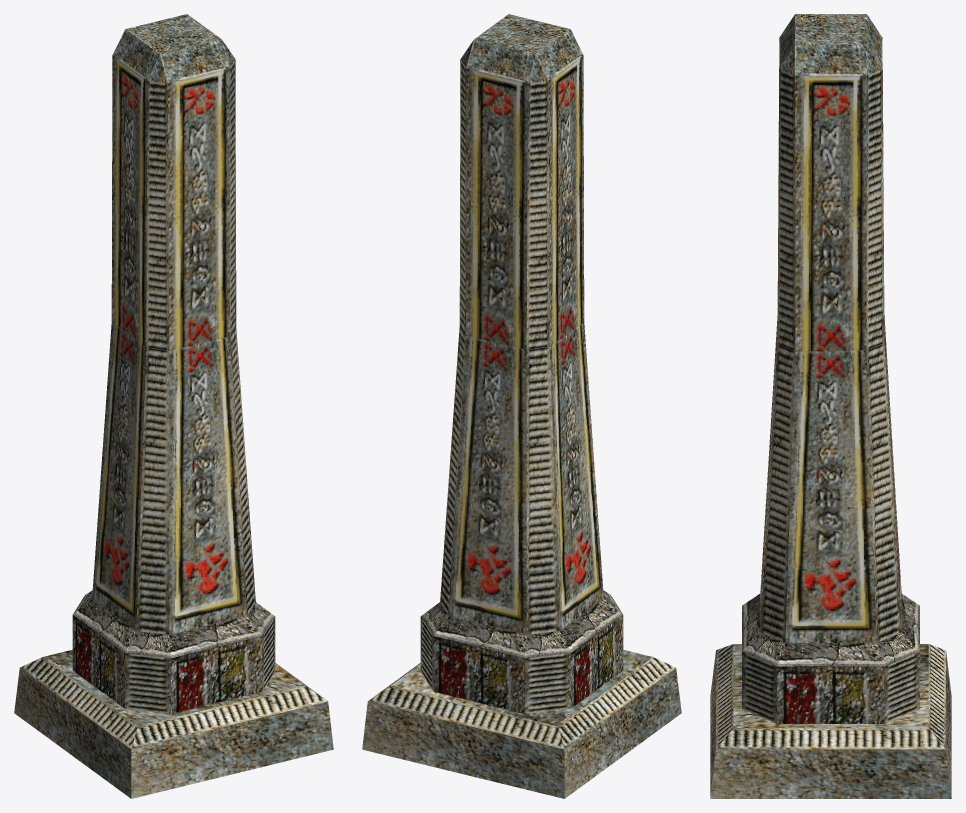
Rendered from Totem_Small_Broken.fbx.
3 renders of one model, left to right at view 1: azimuth 30°, elevation 25°; view 2: azimuth 150°, elevation 25°; view 3: azimuth 270°, elevation 25°, orthographic. The views are drawn at different scales.
Parts seen in each view (by area): view 1: object_2_cell.014, object_2_cell.007, object_2_cell.009, object_2_cell.013, object_2_cell.003, object_2_cell.010, object_2_cell.004, object_2_cell.018, object_2_cell, object_2_cell.006, object_2_cell.016; view 2: object_2_cell.014, object_2_cell.007, object_2_cell.009, object_2_cell.013, object_2_cell.011, object_2_cell.018, object_2_cell.004, object_2_cell.003, object_2_cell.019, object_2_cell, object_2_cell.006; view 3: object_2_cell.014, object_2_cell.007, object_2_cell.013, object_2_cell.009, object_2_cell.010, object_2_cell.006, object_2_cell.019, object_2_cell.011, object_2_cell.003.
Part boxes in pixels (left/top/right/bottom): object_2_cell.014: left=72, top=467, right=275, bottom=713; object_2_cell.007: left=98, top=304, right=246, bottom=565; object_2_cell.009: left=111, top=149, right=237, bottom=355; object_2_cell.013: left=112, top=14, right=235, bottom=183; object_2_cell.003: left=93, top=697, right=244, bottom=798; object_2_cell.010: left=240, top=663, right=333, bottom=760; object_2_cell.004: left=58, top=666, right=114, bottom=770; object_2_cell.018: left=14, top=659, right=69, bottom=753; object_2_cell: left=128, top=34, right=180, bottom=96; object_2_cell.006: left=187, top=159, right=235, bottom=240; object_2_cell.016: left=214, top=725, right=288, bottom=778; object_2_cell.014: left=420, top=486, right=623, bottom=713; object_2_cell.007: left=447, top=317, right=599, bottom=558; object_2_cell.009: left=459, top=151, right=584, bottom=333; object_2_cell.013: left=460, top=14, right=583, bottom=180; object_2_cell.011: left=377, top=663, right=565, bottom=798; object_2_cell.018: left=559, top=712, right=620, bottom=798; object_2_cell.004: left=564, top=677, right=643, bottom=757; object_2_cell.003: left=613, top=649, right=681, bottom=740; object_2_cell.019: left=362, top=667, right=438, bottom=768; object_2_cell: left=543, top=24, right=583, bottom=71; object_2_cell.006: left=460, top=162, right=488, bottom=222; object_2_cell.014: left=742, top=472, right=919, bottom=723; object_2_cell.007: left=765, top=315, right=893, bottom=540; object_2_cell.013: left=778, top=14, right=883, bottom=180; object_2_cell.009: left=776, top=175, right=884, bottom=371; object_2_cell.010: left=710, top=696, right=848, bottom=798; object_2_cell.006: left=778, top=172, right=883, bottom=263; object_2_cell.019: left=820, top=741, right=951, bottom=798; object_2_cell.011: left=833, top=644, right=951, bottom=758; object_2_cell.003: left=710, top=644, right=741, bottom=736.
Size of the model in its own units: 182 by 600 by 183.
